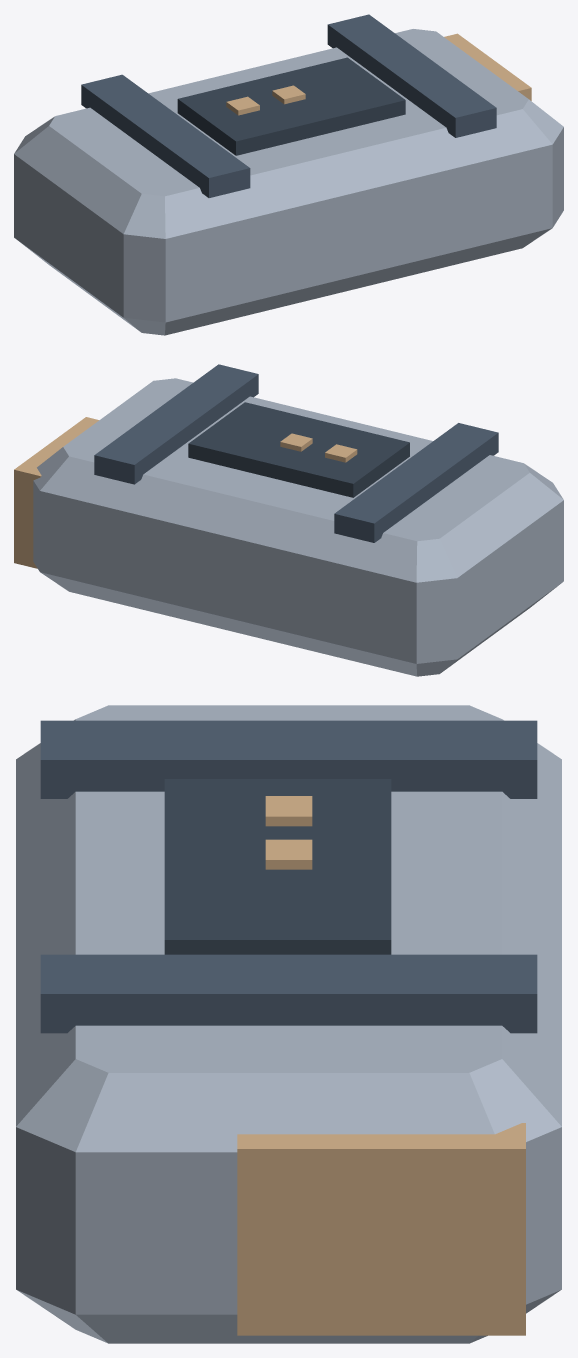
The model's file is battery-light.glb.
The picture shows the model from 3 angles, top to bottom: view 1: azimuth 30°, elevation 25°; view 2: azimuth 150°, elevation 25°; view 3: azimuth 270°, elevation 25°; orthographic projection. The views are drawn at different scales.
Parts seen in each view (by area): view 1: 000_battery_pack, 003_cell_status, 001_retaining_straps, 002_retaining_straps, 006_power_connector, 005_charge_indicator, 004_charge_indicator; view 2: 000_battery_pack, 003_cell_status, 002_retaining_straps, 001_retaining_straps, 006_power_connector, 005_charge_indicator, 004_charge_indicator; view 3: 000_battery_pack, 006_power_connector, 003_cell_status, 002_retaining_straps, 001_retaining_straps, 004_charge_indicator, 005_charge_indicator.
Boxes of the visible parts, bbox=[...] form: 000_battery_pack: bbox=[14, 29, 563, 335]; 003_cell_status: bbox=[177, 57, 405, 155]; 001_retaining_straps: bbox=[81, 74, 250, 197]; 002_retaining_straps: bbox=[327, 14, 496, 137]; 006_power_connector: bbox=[444, 33, 531, 100]; 005_charge_indicator: bbox=[272, 85, 305, 104]; 004_charge_indicator: bbox=[226, 96, 259, 115]; 000_battery_pack: bbox=[33, 378, 563, 676]; 003_cell_status: bbox=[188, 402, 409, 497]; 002_retaining_straps: bbox=[94, 364, 258, 484]; 001_retaining_straps: bbox=[334, 423, 498, 542]; 006_power_connector: bbox=[14, 417, 98, 568]; 005_charge_indicator: bbox=[280, 433, 312, 451]; 004_charge_indicator: bbox=[325, 444, 357, 462]; 000_battery_pack: bbox=[16, 705, 561, 1343]; 006_power_connector: bbox=[237, 1123, 525, 1335]; 003_cell_status: bbox=[164, 779, 391, 954]; 002_retaining_straps: bbox=[40, 954, 537, 1033]; 001_retaining_straps: bbox=[40, 720, 537, 798]; 004_charge_indicator: bbox=[265, 796, 312, 826]; 005_charge_indicator: bbox=[265, 839, 312, 869].
Size of the model in its own units: 0.9804 by 0.332 by 0.53.
